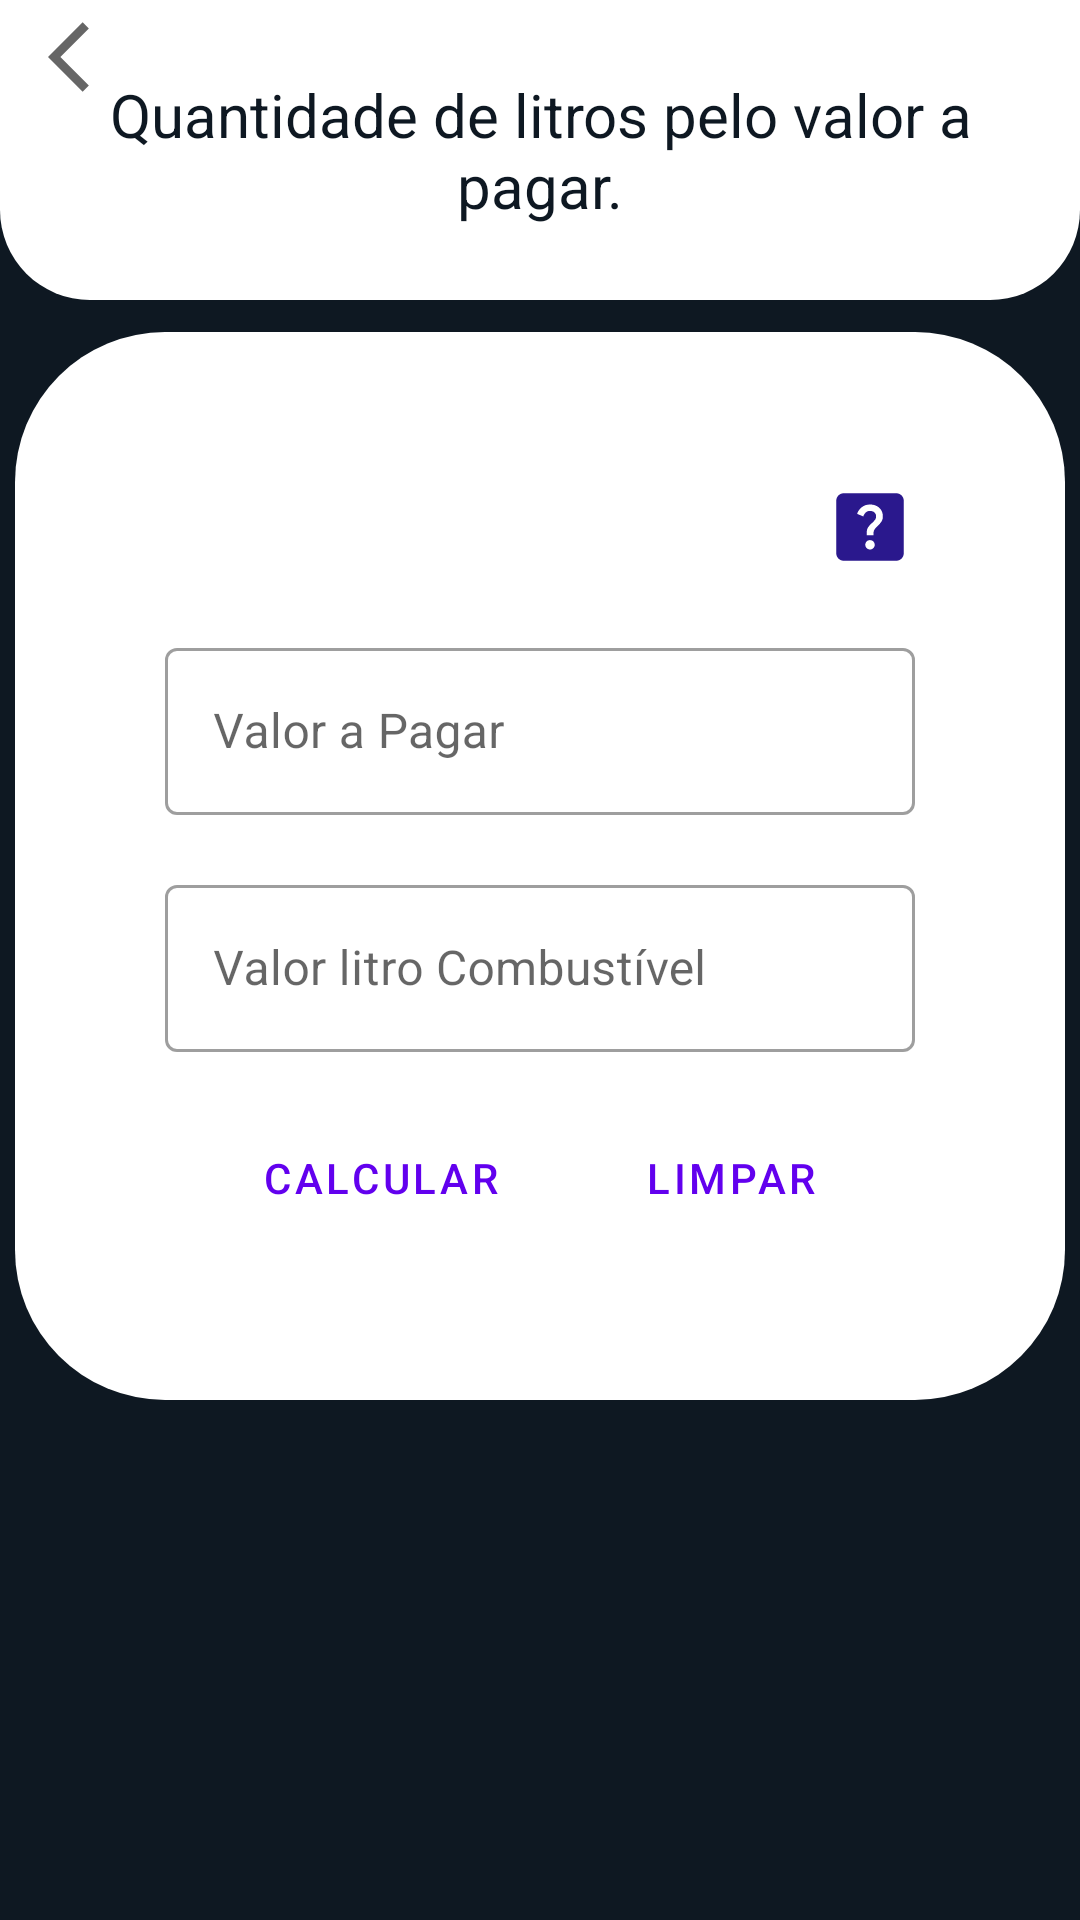

Locate icon controls on the screen. Image size 1080w x 1920h, boxes as (x1, y1, x2, y2).
arrow back: (48, 22, 89, 92)
help center: (836, 493, 904, 561)
